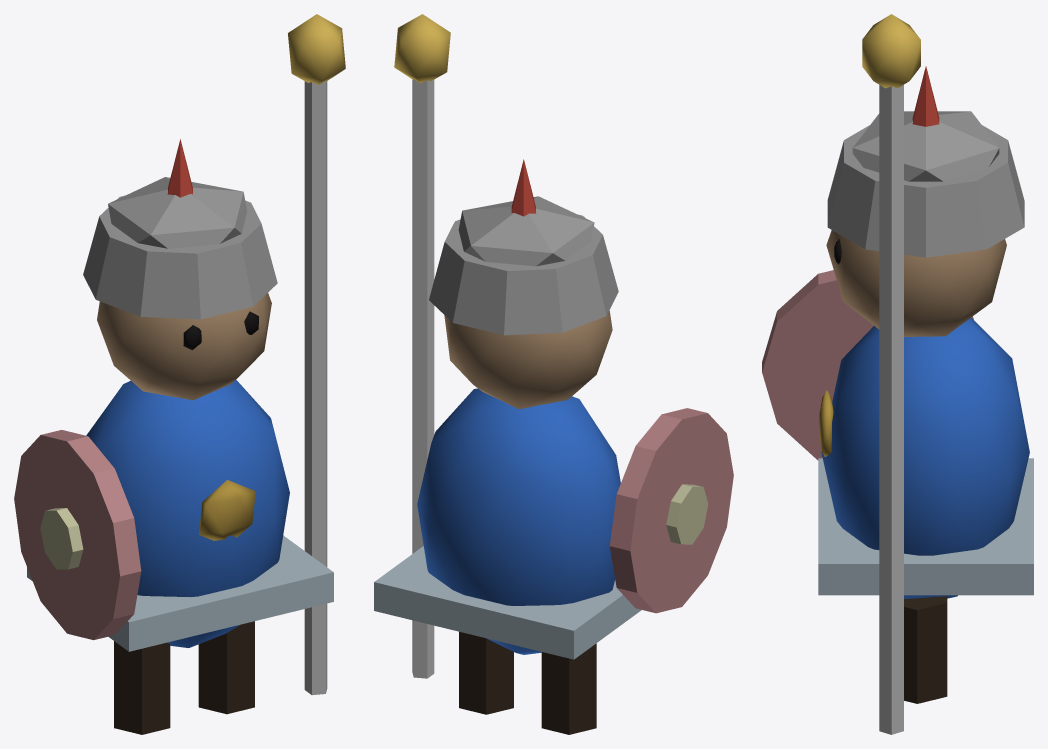
File: guard.glb
3 renders of one model, left to right at view 1: azimuth 30°, elevation 25°; view 2: azimuth 150°, elevation 25°; view 3: azimuth 270°, elevation 25°, orthographic. The views are drawn at different scales.
Visible parts, largest first — view 1: guard; view 2: guard; view 3: guard.
Boxes of the visible parts, x1,y1,x2,y2 form: guard: [14, 14, 345, 734]; guard: [374, 14, 733, 734]; guard: [762, 14, 1033, 734].
Size of the model in its own units: 0.8316 by 1.83 by 0.63.
